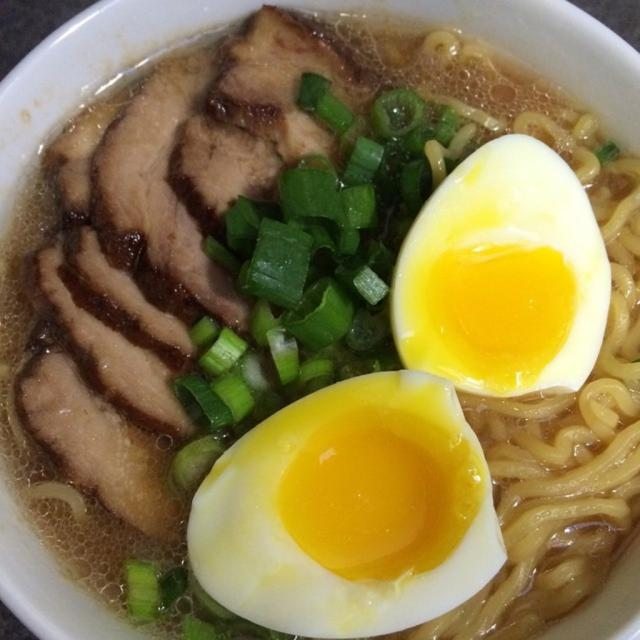Egg: (187, 370, 513, 639), (390, 130, 611, 395)
